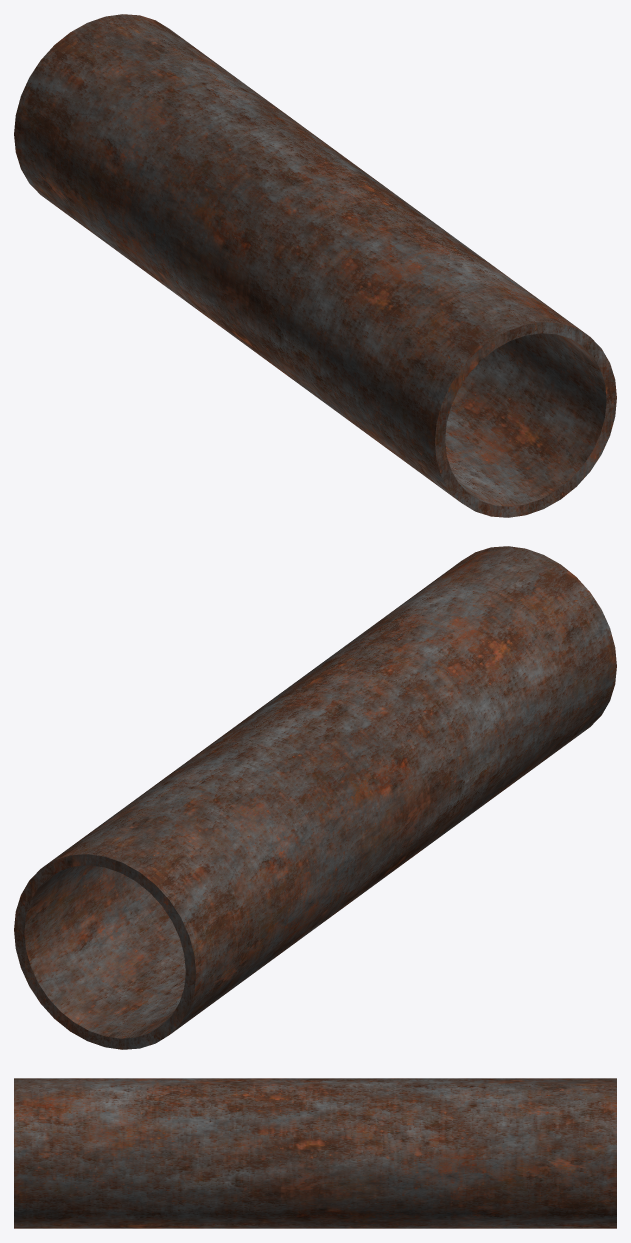
The model's file is short pipe 2.glb.
The picture shows the model from 3 angles, top to bottom: view 1: azimuth 30°, elevation 25°; view 2: azimuth 150°, elevation 25°; view 3: azimuth 270°, elevation 25°; orthographic projection. The views are drawn at different scales.
Visible parts, largest first — view 1: short; view 2: short; view 3: short.
Boxes of the visible parts, x1,y1,x2,y2 form: short: [14, 14, 616, 517]; short: [14, 546, 616, 1049]; short: [14, 1078, 616, 1228].
Bounding box in the file's own units: 115 × 115 × 460.
Materials: 1 (1 with a texture image).
